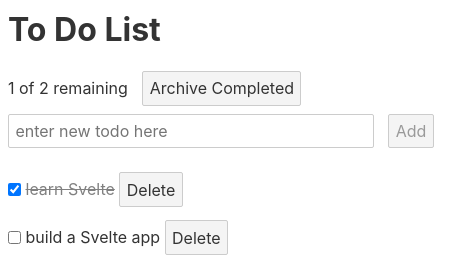
Test: Todo app › should archive completed
Expected: the text "learn Svelte" is shown, [26,180,115,200]
# This clicks the Archive Completed button.
Click the button "Archive Completed" at [222, 89], box [142,71,301,106]
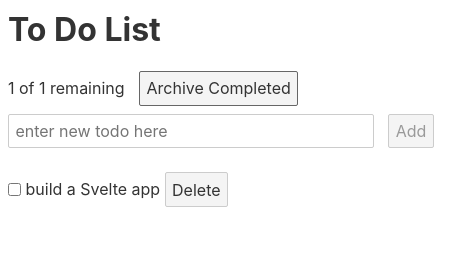
Expected: the text "learn Svelte" is gone
Expected: the text "1 of 1 remaining" is shown, [8,78,125,98]
